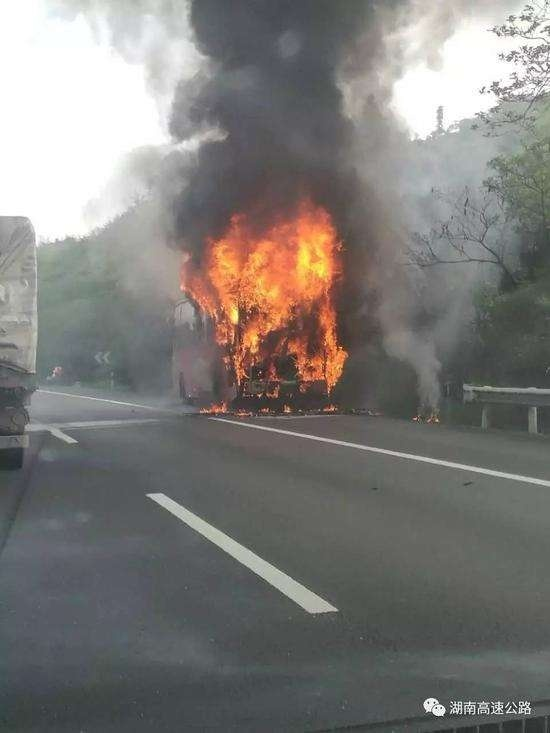fire: (181, 205, 347, 411)
